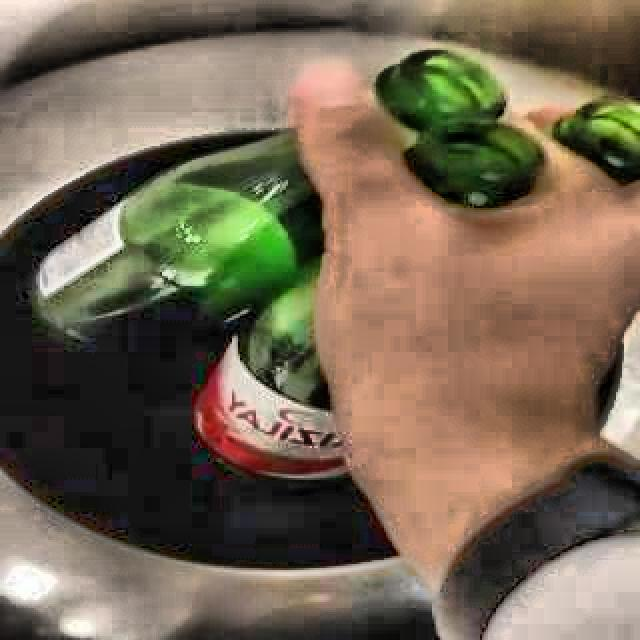glass: (32, 133, 344, 480), (376, 50, 547, 210), (555, 100, 640, 182)
